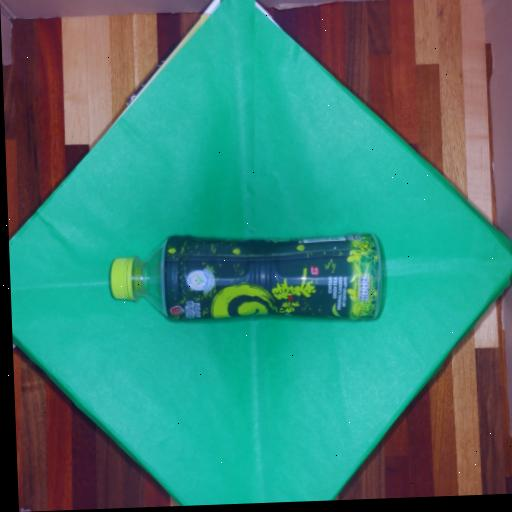bottle: (97, 218, 393, 345)
